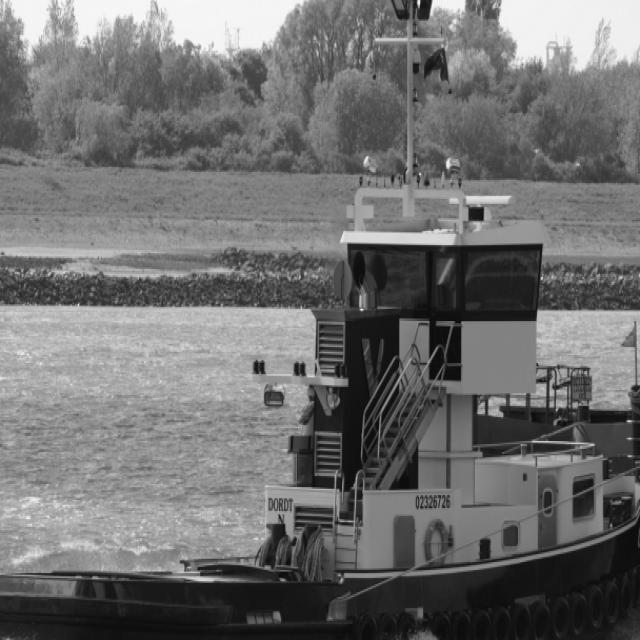tugboat: (1, 179, 640, 640)
